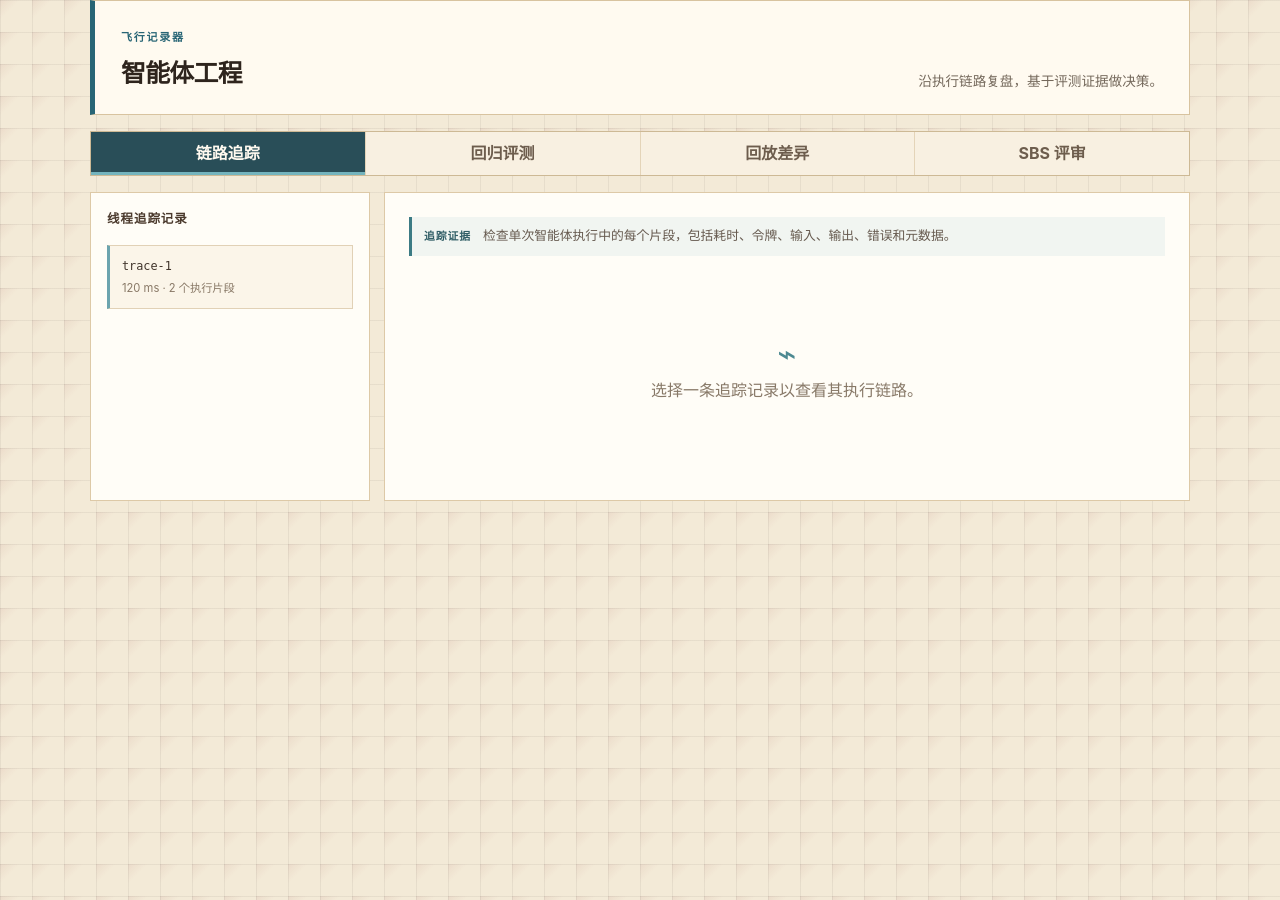
Test: EngineeringPanel › runs two project Agent configurations and opens the blinded SBS task
The image size is (1280, 900).
Click the tab "SBS 评审": (1052, 154) x1=915 y1=132 x2=1189 y2=175
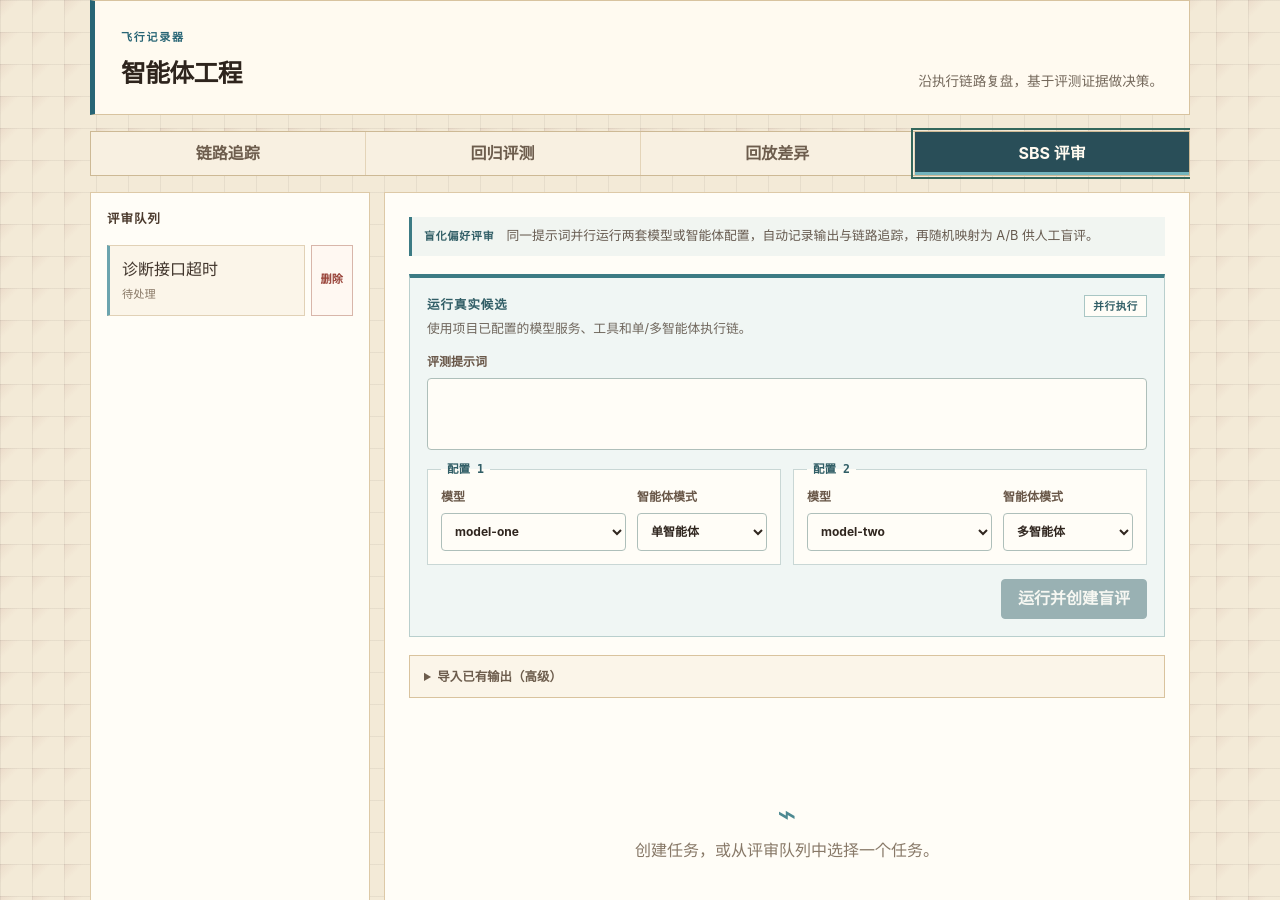
In the text box labelled "评测提示词": (787, 414) x1=427 y1=378 x2=1147 y2=450, type "诊断接口超时"
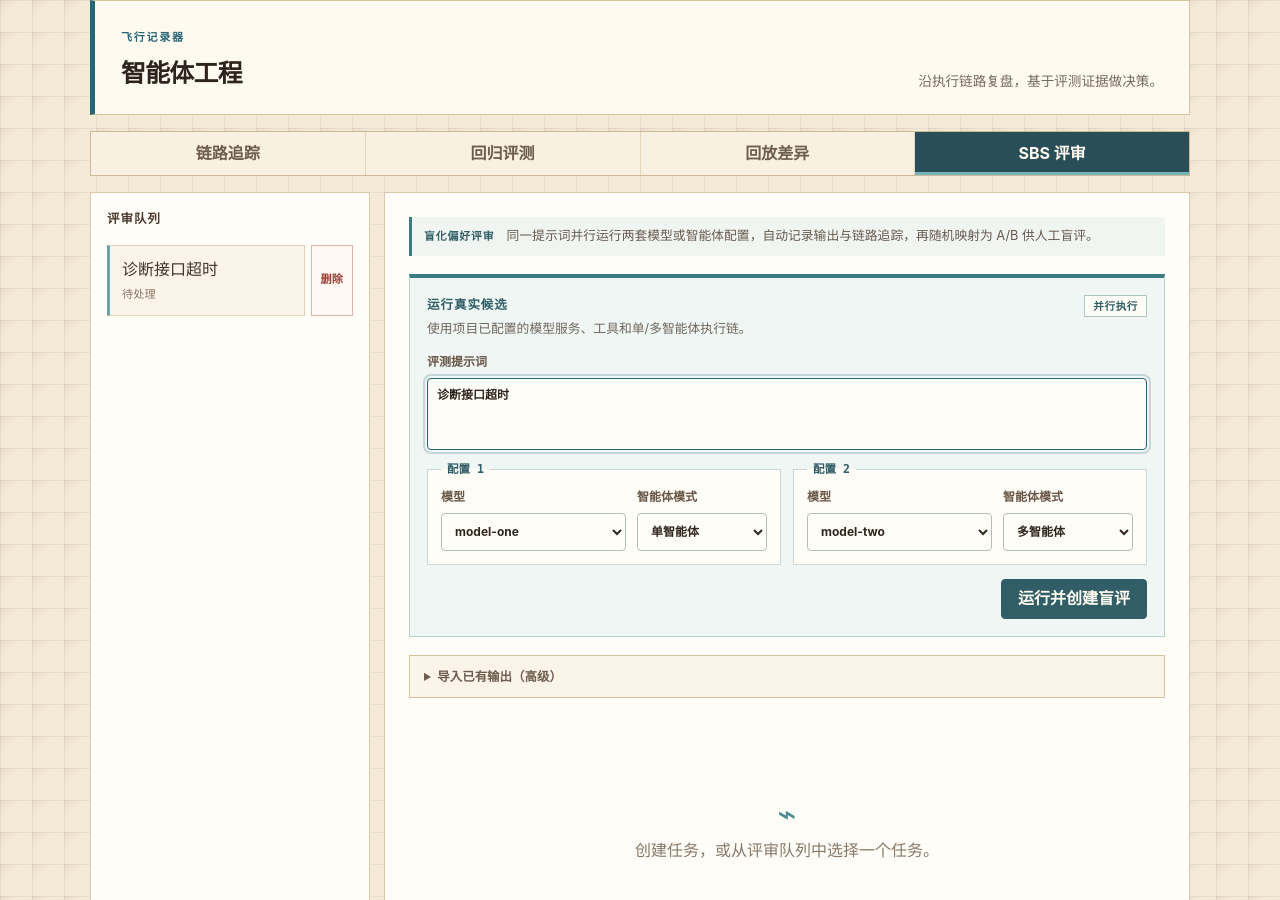
Result: the dropdown named "配置 1 模型" shows "model-one"
Result: the dropdown named "配置 2 模型" shows "model-two" at x1=807 y1=513 x2=992 y2=551
Select "model-one" in the dropdown named "配置 1 模型": (534, 532) x1=441 y1=513 x2=626 y2=551
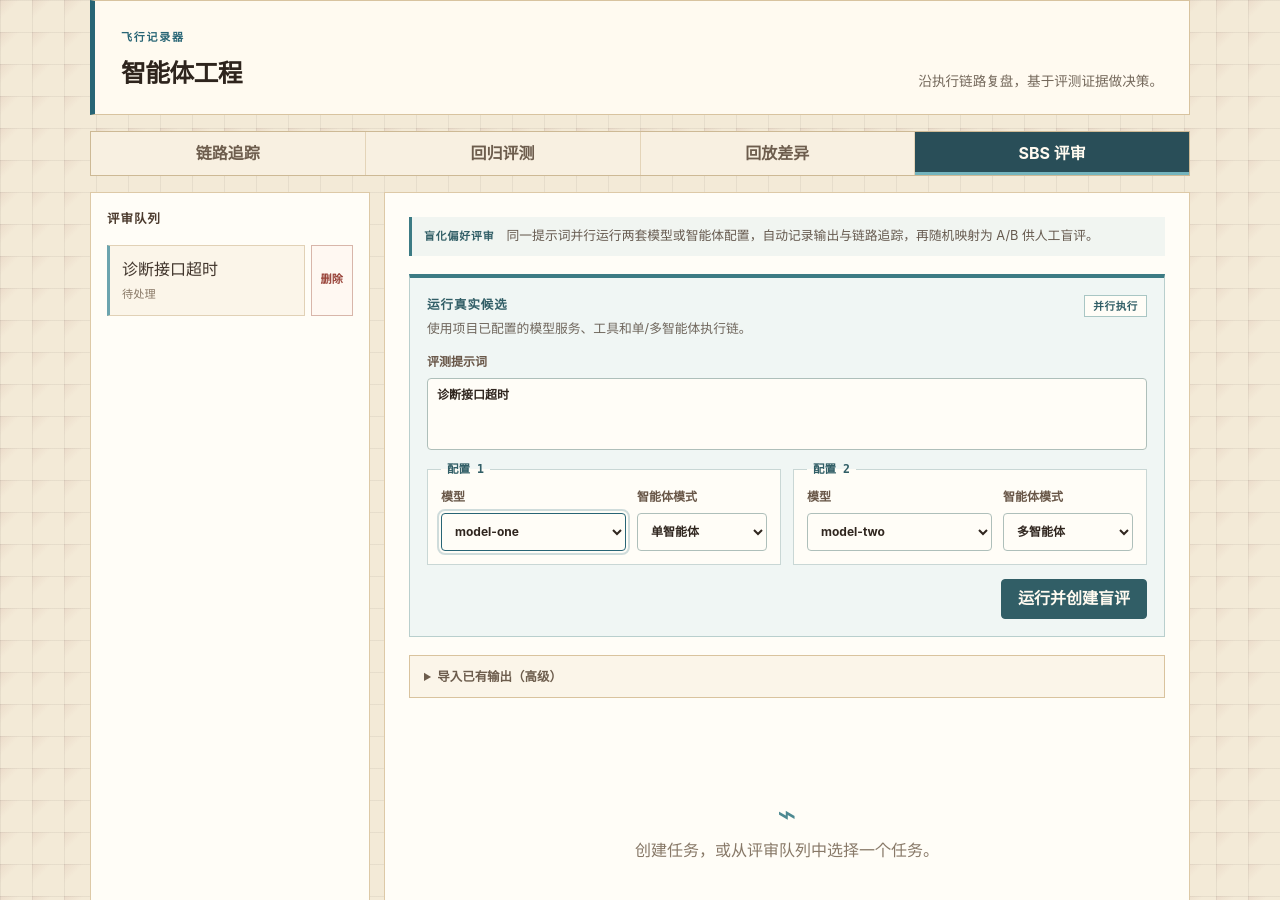
Select "model-two" in the dropdown named "配置 2 模型": (900, 532) x1=807 y1=513 x2=992 y2=551
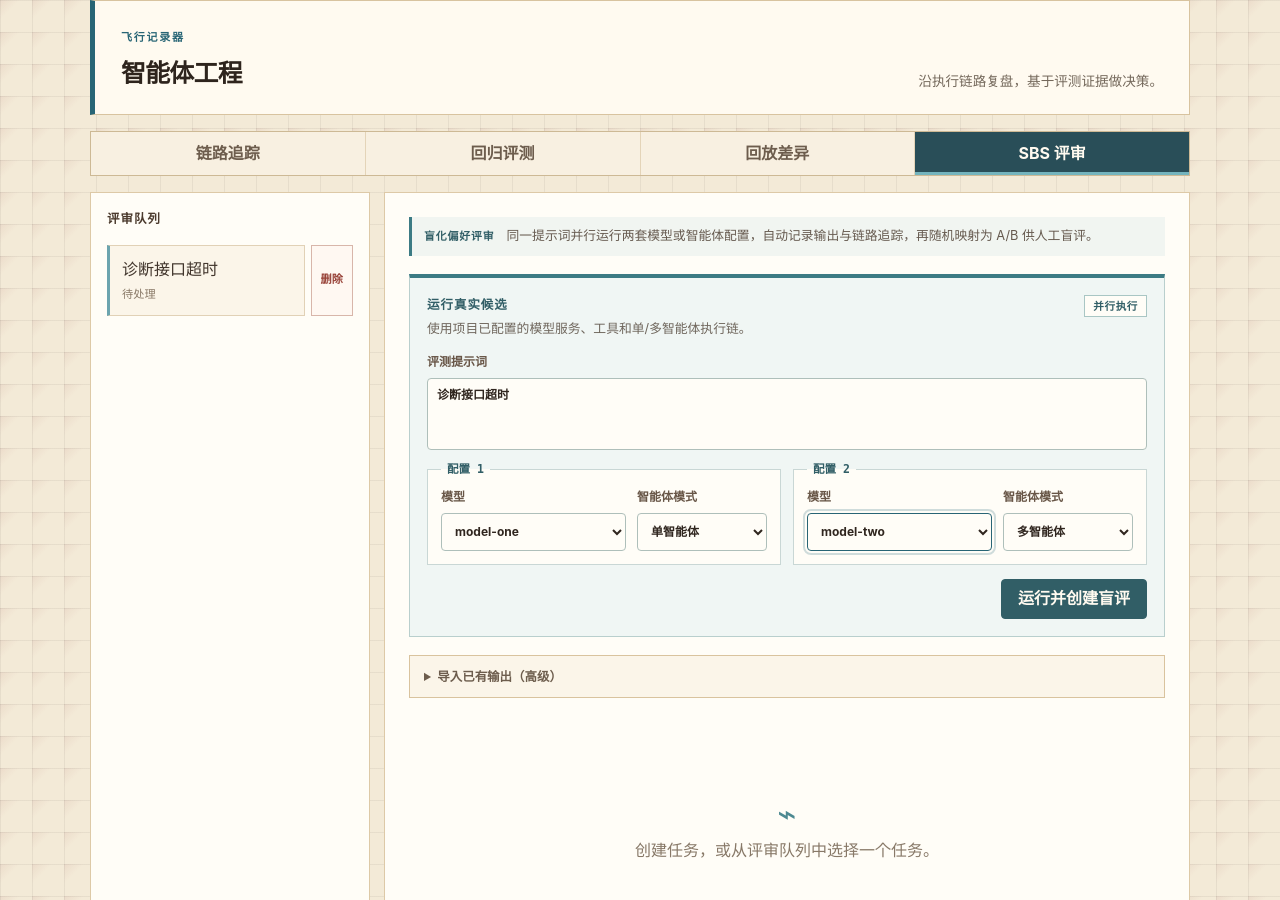
Select "多智能体" in the dropdown named "配置 2 智能体模式": (1068, 532) x1=1003 y1=513 x2=1133 y2=551
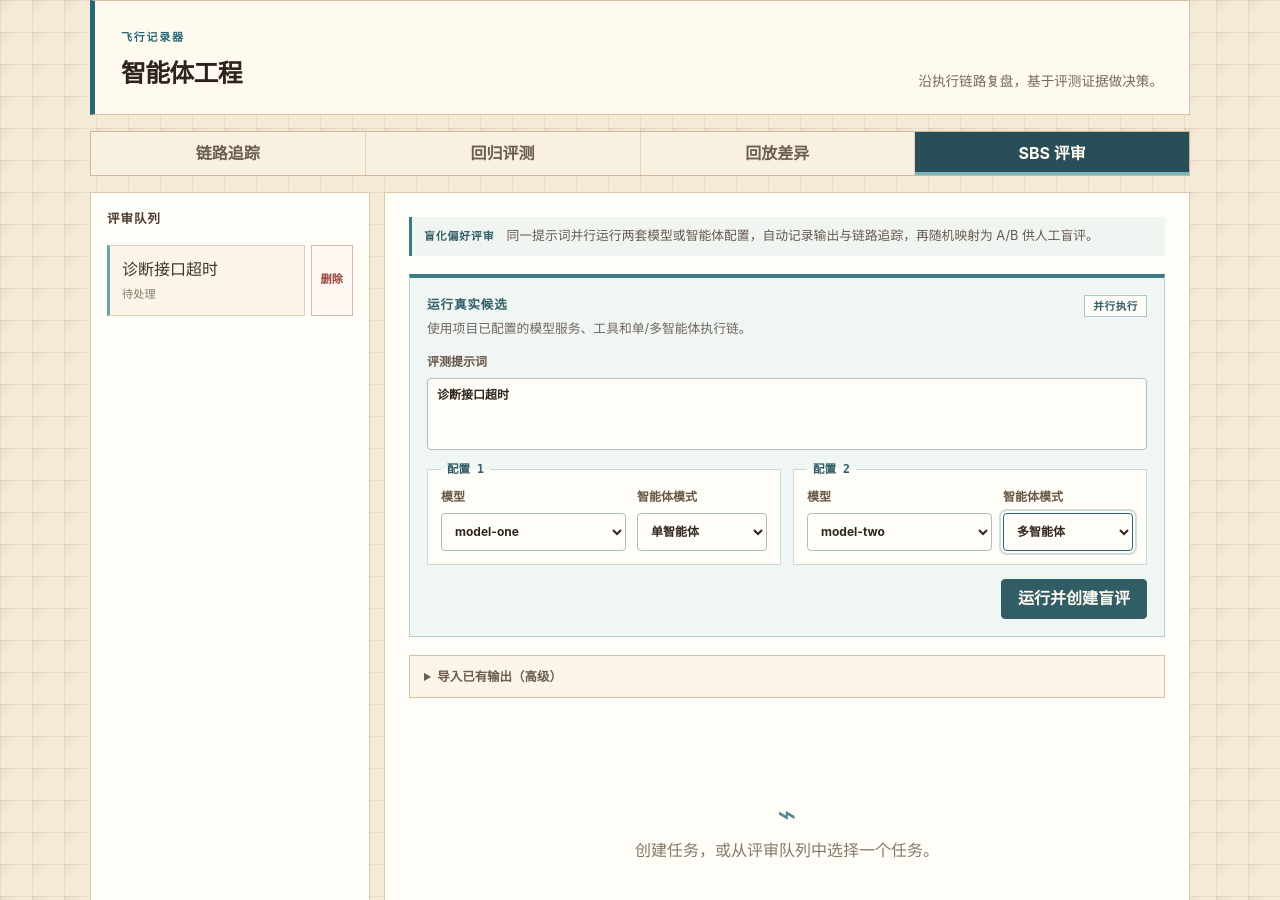
Click the button "运行并创建盲评": (1074, 599) x1=1001 y1=579 x2=1147 y2=619
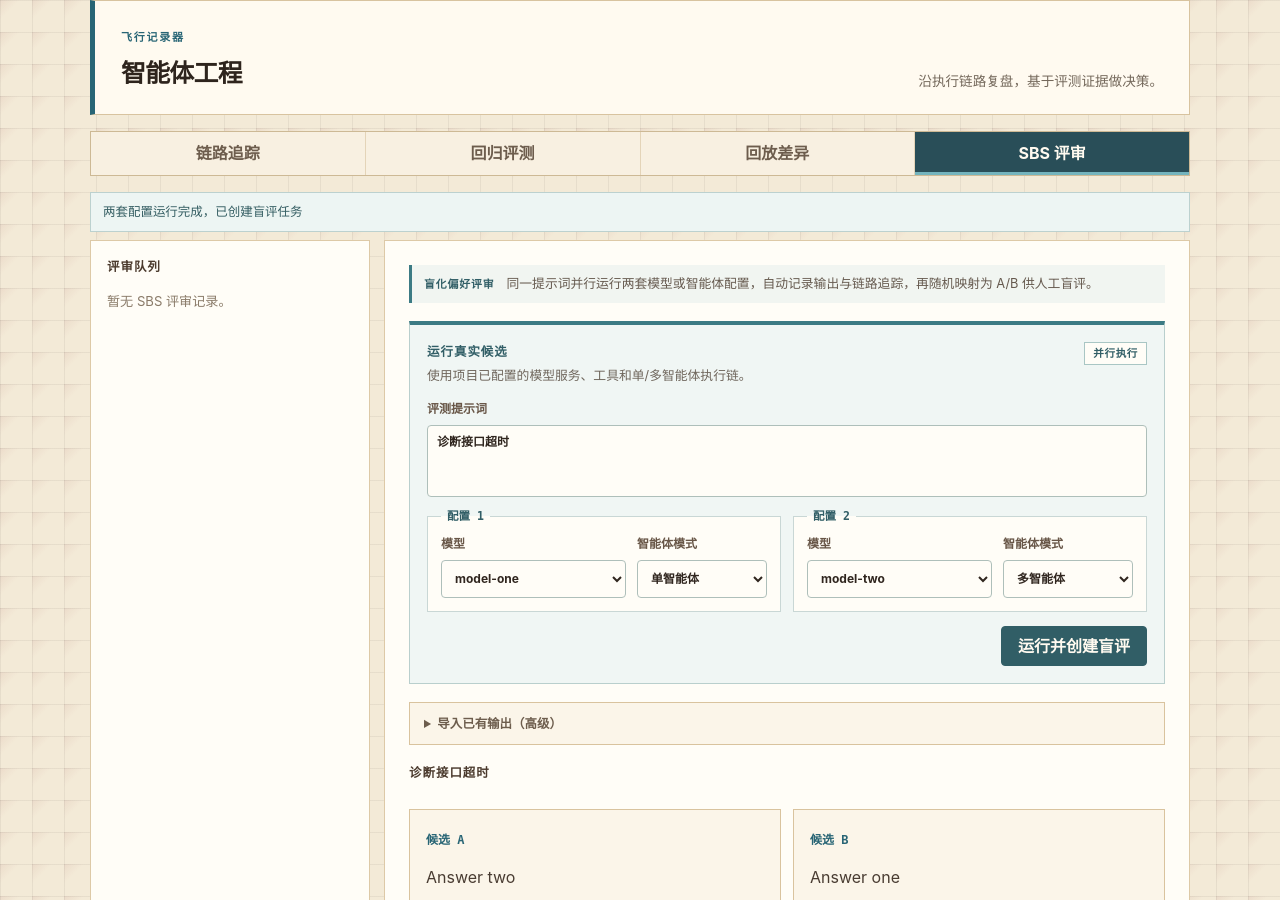
Result: the text "Answer one" is shown at x1=810 y1=868 x2=900 y2=888
Result: the text "Answer two" is shown at x1=426 y1=868 x2=516 y2=888
